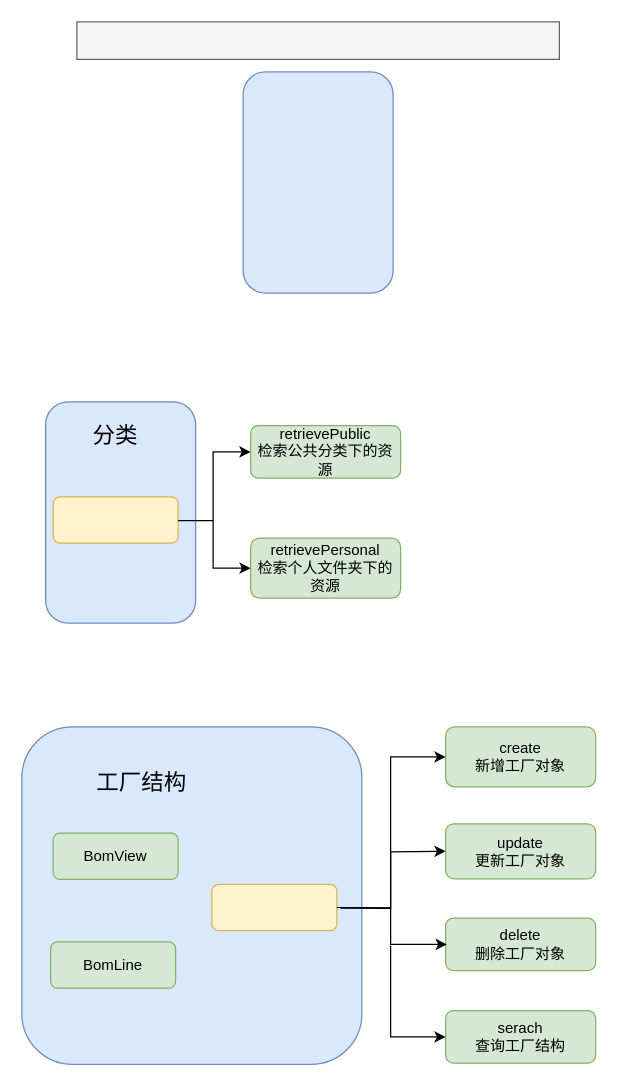
This 618x1086 diagram has some shape labels left out. Here are the shapes that lost their labels. From the top down, the centre of each, then its label:
At point (317, 40): "权限判定".
At point (317, 182): "factoryStructureApi".
At point (115, 519): "Category".
At point (274, 907): "FactoryItem".
